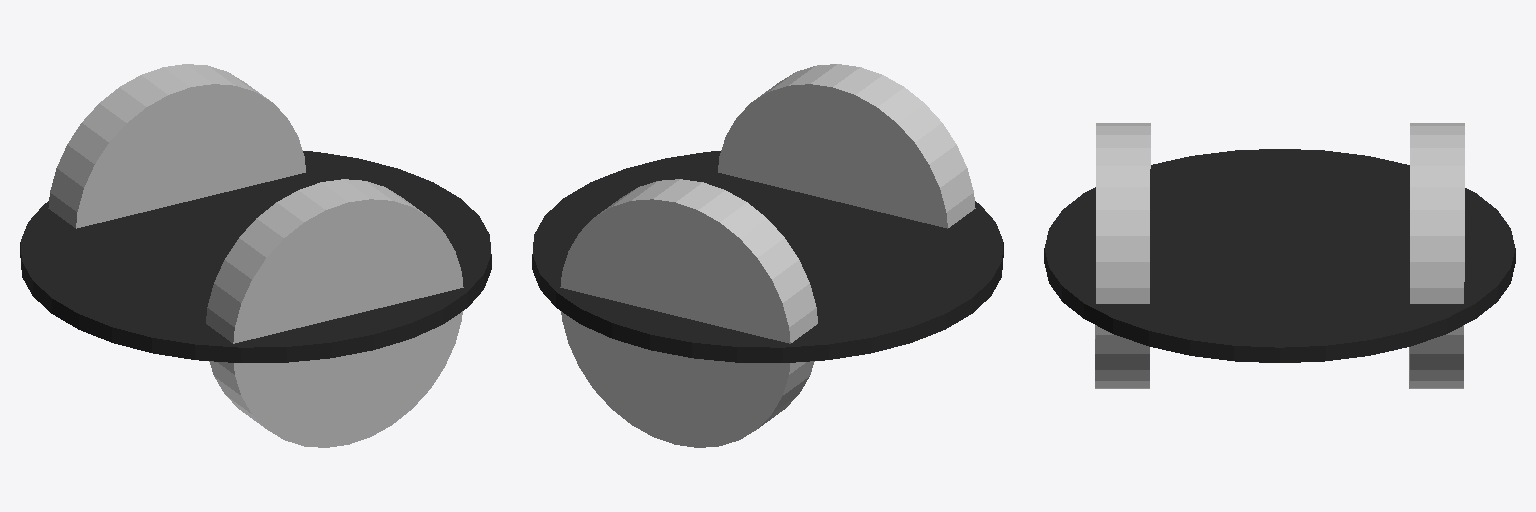
URDF robot description (myfirst):
<?xml version="1.0"?>
<robot name="myfirst">

  <link name="base_footprint">
  </link>

  <link name="base_link">
    <visual>
      <geometry>
        <cylinder length="0.022" radius="0.3"/>
      </geometry>
      <material name="gray">
        <color rgba="0.2 0.2 0.2 1"/>
      </material>
    </visual>
  </link>

  <joint name="base_footprint_to_link" type="fixed">
    <parent link="base_footprint"/>
    <child link="base_link"/>
    <origin rpy="0 0 0" xyz="0 0 0.17" />
  </joint>

  <link name="left_wheel">
    <visual>
      <geometry>
        <cylinder length="0.07" radius="0.17"/>
      </geometry>
      <material name="off-white">
        <color rgba="0.8 0.8 0.8 1"/>
      </material>
    </visual>
  </link>

  <joint name="base_to_left_wheel" type="fixed">
    <parent link="base_link"/>
    <child link="left_wheel"/>
    <origin rpy="1.5705 0 0" xyz="0 0.2 0" />
  </joint>

  <link name="right_wheel">
    <visual>
      <geometry>
        <cylinder length="0.07" radius="0.17"/>
      </geometry>
      <material name="off-white" />
    </visual>
  </link>

  <joint name="base_to_right_wheel" type="fixed">
    <parent link="base_link"/>
    <child link="right_wheel"/>
    <origin rpy="1.5705 0 0" xyz="0 -0.2 0" />
  </joint>

  <link name="camera_link">
    <visual>
      <origin xyz=" 0 0 0 " rpy="0 0 0" />
      <geometry>
        <mesh filename="package://pharos_description/meshes/kinect.dae"/>
      </geometry>
    </visual>
  </link>

  <joint name="base_link_to_camera" type="fixed">
    <parent link="base_link"/>
    <child link="camera_link"/>
    <origin xyz="-0.06 0 0.261" rpy="0 0 0" />
  </joint>

  <joint name="camera_depth_joint" type="fixed">
    <origin xyz="0 0.018 0" rpy="0 0 0" />
    <parent link="camera_link" />
    <child link="camera_depth_frame" />
  </joint>

  <link name="camera_depth_frame">
  </link>

  <joint name="camera_depth_optical_joint" type="fixed">
    <origin xyz="0 0 0" rpy="-1.5705 0 -1.5705" />
    <parent link="camera_depth_frame" />
    <child link="camera_depth_optical_frame" />
  </joint>

  <link name="camera_depth_optical_frame">
  </link>

  <joint name="camera_rgb_joint" type="fixed">
    <origin xyz="0 -0.005 0" rpy="0 0 0" />
    <parent link="camera_link" />
    <child link="camera_rgb_frame" />
  </joint>

  <link name="camera_rgb_frame">
  </link>

  <joint name="camera_rgb_optical_joint" type="fixed">
    <origin xyz="0 0 0" rpy="-1.5705 0 -1.5705" />
    <parent link="camera_rgb_frame" />
    <child link="camera_rgb_optical_frame" />
  </joint>

  <link name="camera_rgb_optical_frame">
  </link>

</robot>

--- Render facts (derived) ---
3 views of the same robot in one strip: view 1: azimuth 30°, elevation 25°; view 2: azimuth 150°, elevation 25°; view 3: azimuth 270°, elevation 25° (orthographic).
Model myfirst with 9 links and 8 joints (8 fixed), rooted at base_footprint, posed every joint at zero.
Links seen in each view (by area): view 1: right_wheel, base_link, left_wheel; view 2: left_wheel, base_link, right_wheel; view 3: base_link, left_wheel, right_wheel.
Boxes of the visible links, left/top/right/bottom form: right_wheel: left=206, top=179, right=463, bottom=447; base_link: left=20, top=151, right=491, bottom=362; left_wheel: left=48, top=64, right=305, bottom=228; left_wheel: left=560, top=179, right=817, bottom=447; base_link: left=532, top=151, right=1003, bottom=362; right_wheel: left=718, top=64, right=975, bottom=228; base_link: left=1044, top=149, right=1515, bottom=362; left_wheel: left=1409, top=123, right=1464, bottom=388; right_wheel: left=1095, top=123, right=1150, bottom=388.
Bounding box of the posed robot: 0.6 × 0.6 × 0.34 m (x, y, z).
0 mesh visuals loaded from 1 distinct referenced files (none loaded); not drawn: 1 (reference not matched to a file when rendering).
